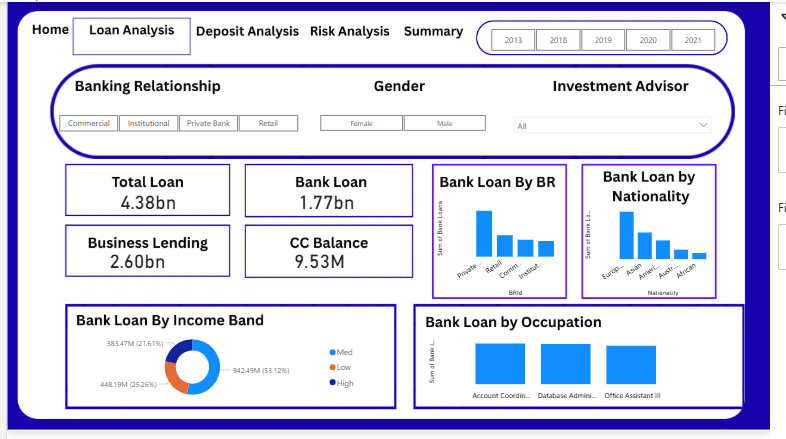

The page's visual inventory and layout, read from the dashboard file:
{"tool":"powerbi","page":{"name":"Loan Analysis","canvas":[1280,720],"ordinal":1},"visuals":[{"type":"slicer","fields":{"Values":["Clients - Banking.Year of Joining"]},"box":[786.6,38.3,425.2,49.6],"z":0},{"type":"actionButton","box":[26.8,25.2,80.5,52],"z":1000},{"type":"actionButton","box":[313.7,25.2,186.2,52],"z":2000},{"type":"actionButton","box":[494.9,25.2,157.7,52],"z":3000},{"type":"card","fields":{"Values":["Clients - Banking.Total Loan"]},"box":[148.8,318.9,175.7,51],"z":4000},{"type":"card","fields":{"Values":["Sum(Clients - Banking.Bank Loans)"]},"box":[440.8,318.9,189.9,51],"z":5000},{"type":"card","fields":{"Values":["Sum(Clients - Banking.Business Lending)"]},"box":[124.7,418.1,189.9,51],"z":6000},{"type":"card","fields":{"Values":["Sum(Clients - Banking.Credit Card Balance)"]},"box":[429.4,418.1,189.9,51],"z":7000},{"type":"donutChart","fields":{"Category":["Clients - Banking.Income Band"],"Y":["Sum(Clients - Banking.Bank Loans)"]},"box":[78,548.5,518.7,127.6],"z":8000},{"type":"clusteredColumnChart","fields":{"Category":["Clients - Banking.BRId"],"Y":["Sum(Clients - Banking.Bank Loans)"]},"box":[716.3,318.7,221.4,179.5],"z":9000},{"type":"clusteredColumnChart","fields":{"Y":["Sum(Clients - Banking.Bank Loans)"],"Category":["Clients - Banking.Nationality"]},"box":[964.6,335.5,226.5,162.7],"z":10000},{"type":"clusteredColumnChart","fields":{"Category":["Clients - Banking.Occupation"],"Y":["Sum(Clients - Banking.Bank Loans)"]},"box":[702.9,548.6,439.5,127.5],"z":11000},{"type":"slicer","fields":{"Values":["Clients - Banking.BRId"]},"box":[62.1,182.9,449.6,40.3],"z":12000},{"type":"slicer","fields":{"Values":["Clients - Banking.GenderId"]},"box":[499.9,182.9,327.1,40.3],"z":13000},{"type":"slicer","fields":{"Values":["Investment Advisor.IAId"]},"box":[840.5,182.9,350.6,40.3],"z":14000},{"type":"actionButton","box":[652.6,25.2,129.2,52],"z":14001}]}

Visuals, with their boxes in screenshot pixels (x1, y1, x2, y2), scaled from the page's 1280x720 canvas onto the 786x439 screenshot:
slicer - Clients - Banking.Year of Joining: box=[483, 23, 744, 54]
actionButton: box=[16, 15, 66, 47]
actionButton: box=[193, 15, 307, 47]
actionButton: box=[304, 15, 401, 47]
card - Clients - Banking.Total Loan: box=[91, 194, 199, 226]
card - Sum(Clients - Banking.Bank Loans): box=[271, 194, 387, 226]
card - Sum(Clients - Banking.Business Lending): box=[77, 255, 193, 286]
card - Sum(Clients - Banking.Credit Card Balance): box=[264, 255, 380, 286]
donutChart - Clients - Banking.Income Band x Sum(Clients - Banking.Bank Loans): box=[48, 334, 366, 412]
clusteredColumnChart - Clients - Banking.BRId x Sum(Clients - Banking.Bank Loans): box=[440, 194, 576, 304]
clusteredColumnChart - Sum(Clients - Banking.Bank Loans) x Clients - Banking.Nationality: box=[592, 205, 731, 304]
clusteredColumnChart - Clients - Banking.Occupation x Sum(Clients - Banking.Bank Loans): box=[432, 334, 702, 412]
slicer - Clients - Banking.BRId: box=[38, 112, 314, 136]
slicer - Clients - Banking.GenderId: box=[307, 112, 508, 136]
slicer - Investment Advisor.IAId: box=[516, 112, 731, 136]
actionButton: box=[401, 15, 480, 47]
